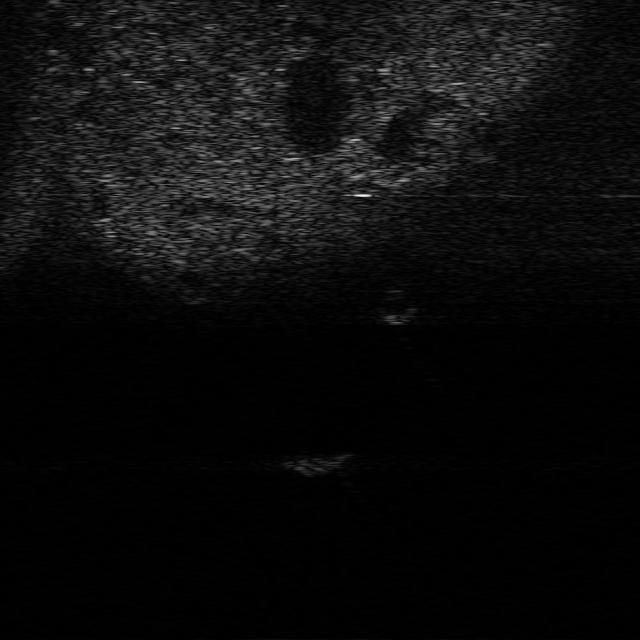ball: (371, 288, 420, 326)
cube: (284, 452, 358, 478)
